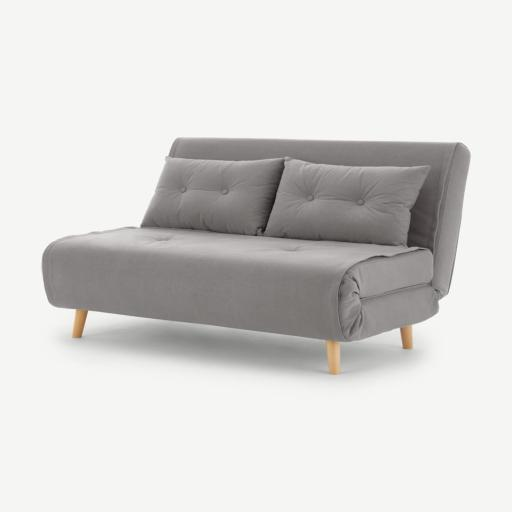back_cushion: (149, 123, 465, 252)
legs: (64, 301, 87, 328), (318, 351, 331, 389), (397, 325, 412, 347)
one-seater: (42, 123, 470, 389)
seat_cushion: (42, 215, 398, 349)
